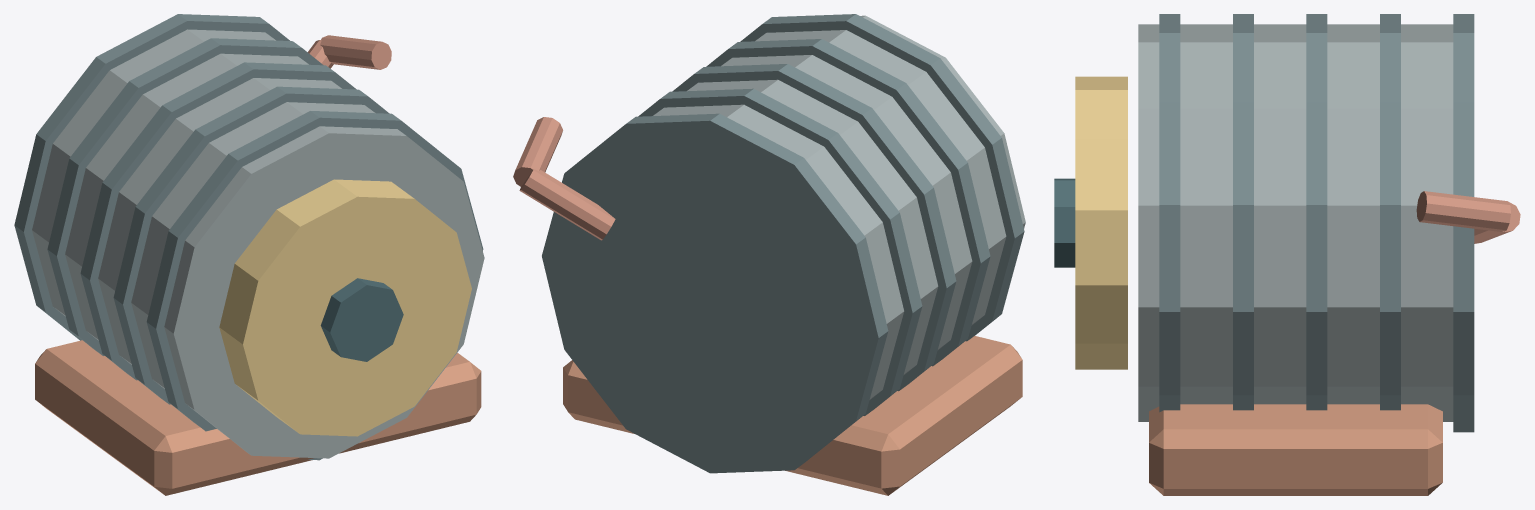
File: replacement_alternator.glb
3 renders of one model, left to right at view 1: azimuth 30°, elevation 25°; view 2: azimuth 150°, elevation 25°; view 3: azimuth 270°, elevation 25°, orthographic. The views are drawn at different scales.
Parts seen in each view (by area): view 1: replacement_alternator; view 2: replacement_alternator; view 3: replacement_alternator.
Boxes of the visible parts, x1=… form: replacement_alternator: x1=14, y1=14, x2=484, y2=495; replacement_alternator: x1=513, y1=14, x2=1025, y2=495; replacement_alternator: x1=1054, y1=14, x2=1520, y2=495.
Bounding box in the file's own units: 0.4346 × 0.4 × 0.444.
